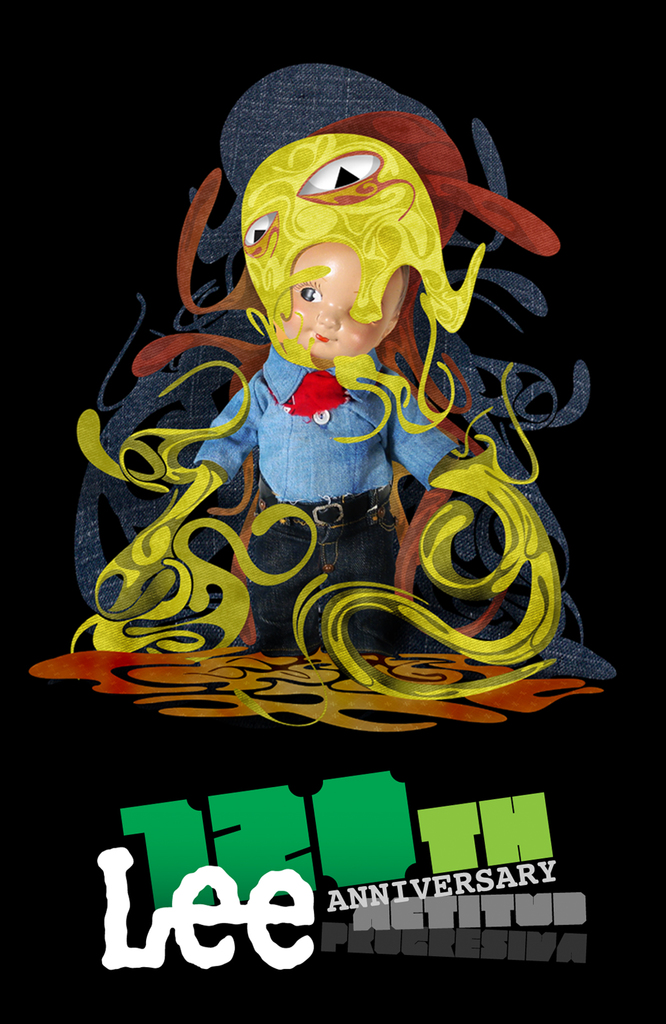Human-face: (282, 239, 399, 348)
